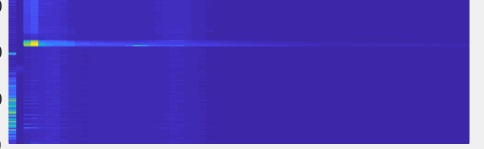leak: (18, 3, 64, 33)
